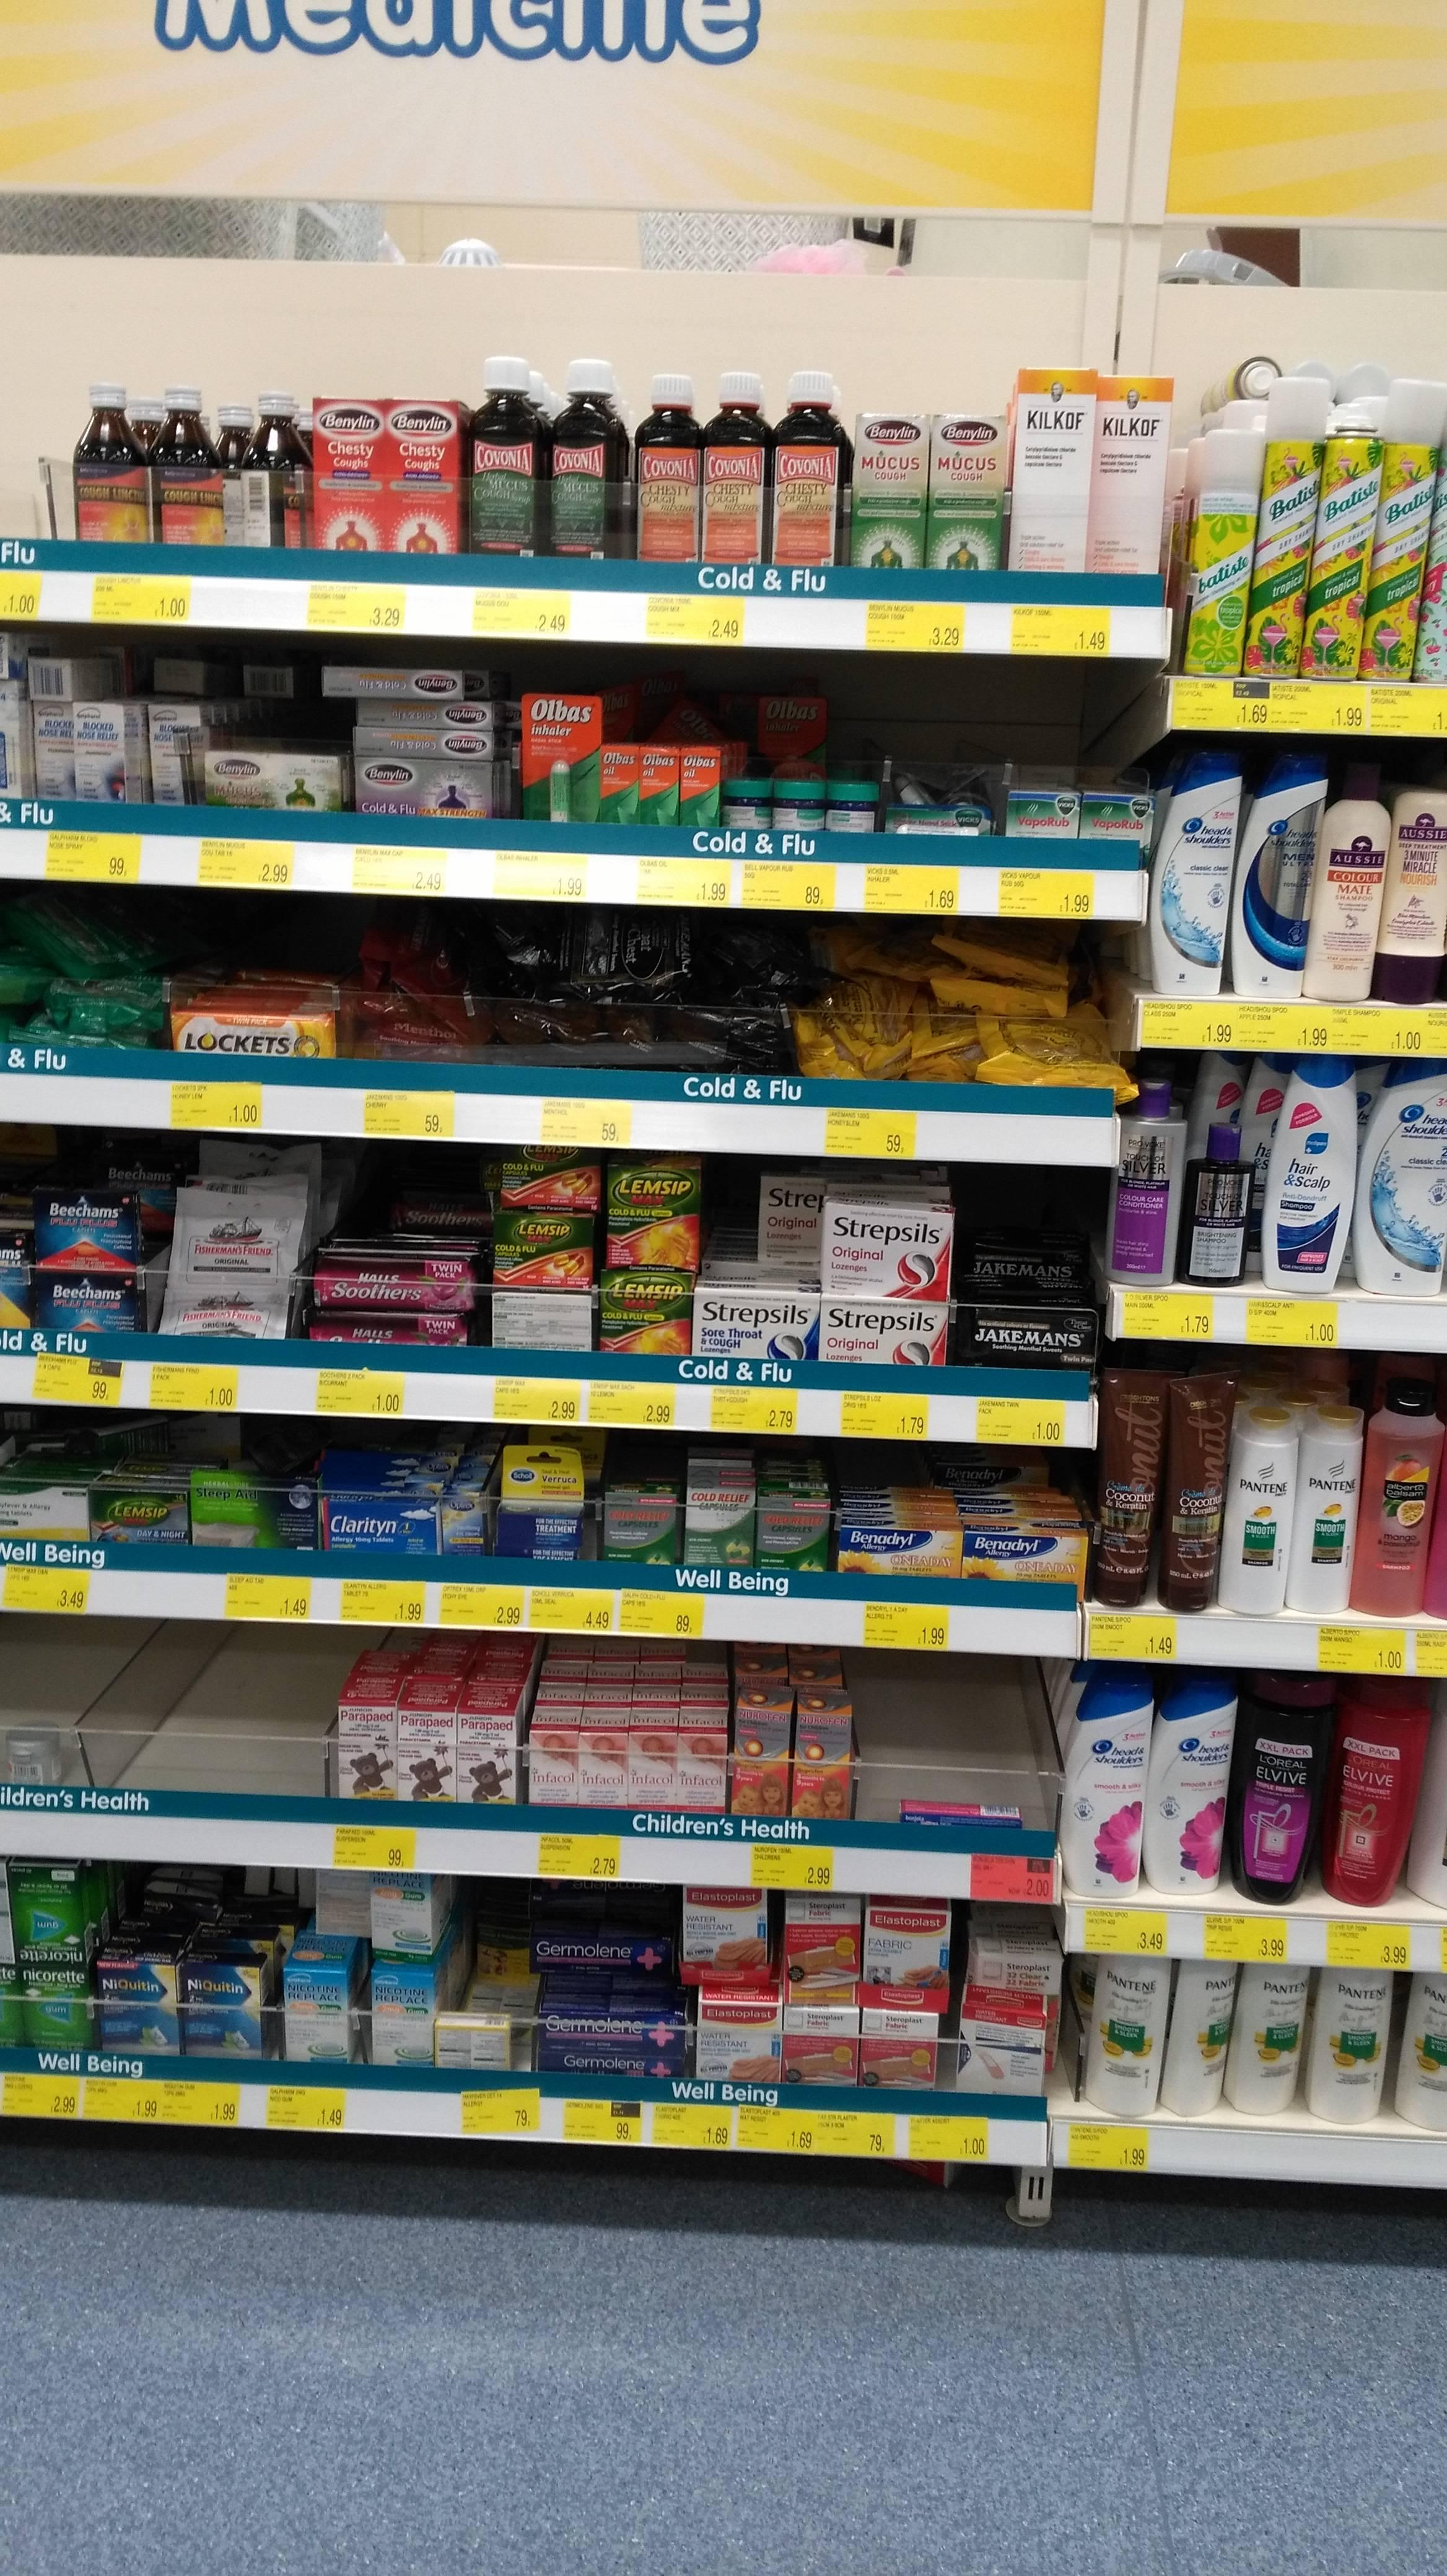misalignment: (900, 1783, 1033, 1836), (893, 755, 991, 816), (315, 671, 471, 706), (25, 651, 101, 708)
